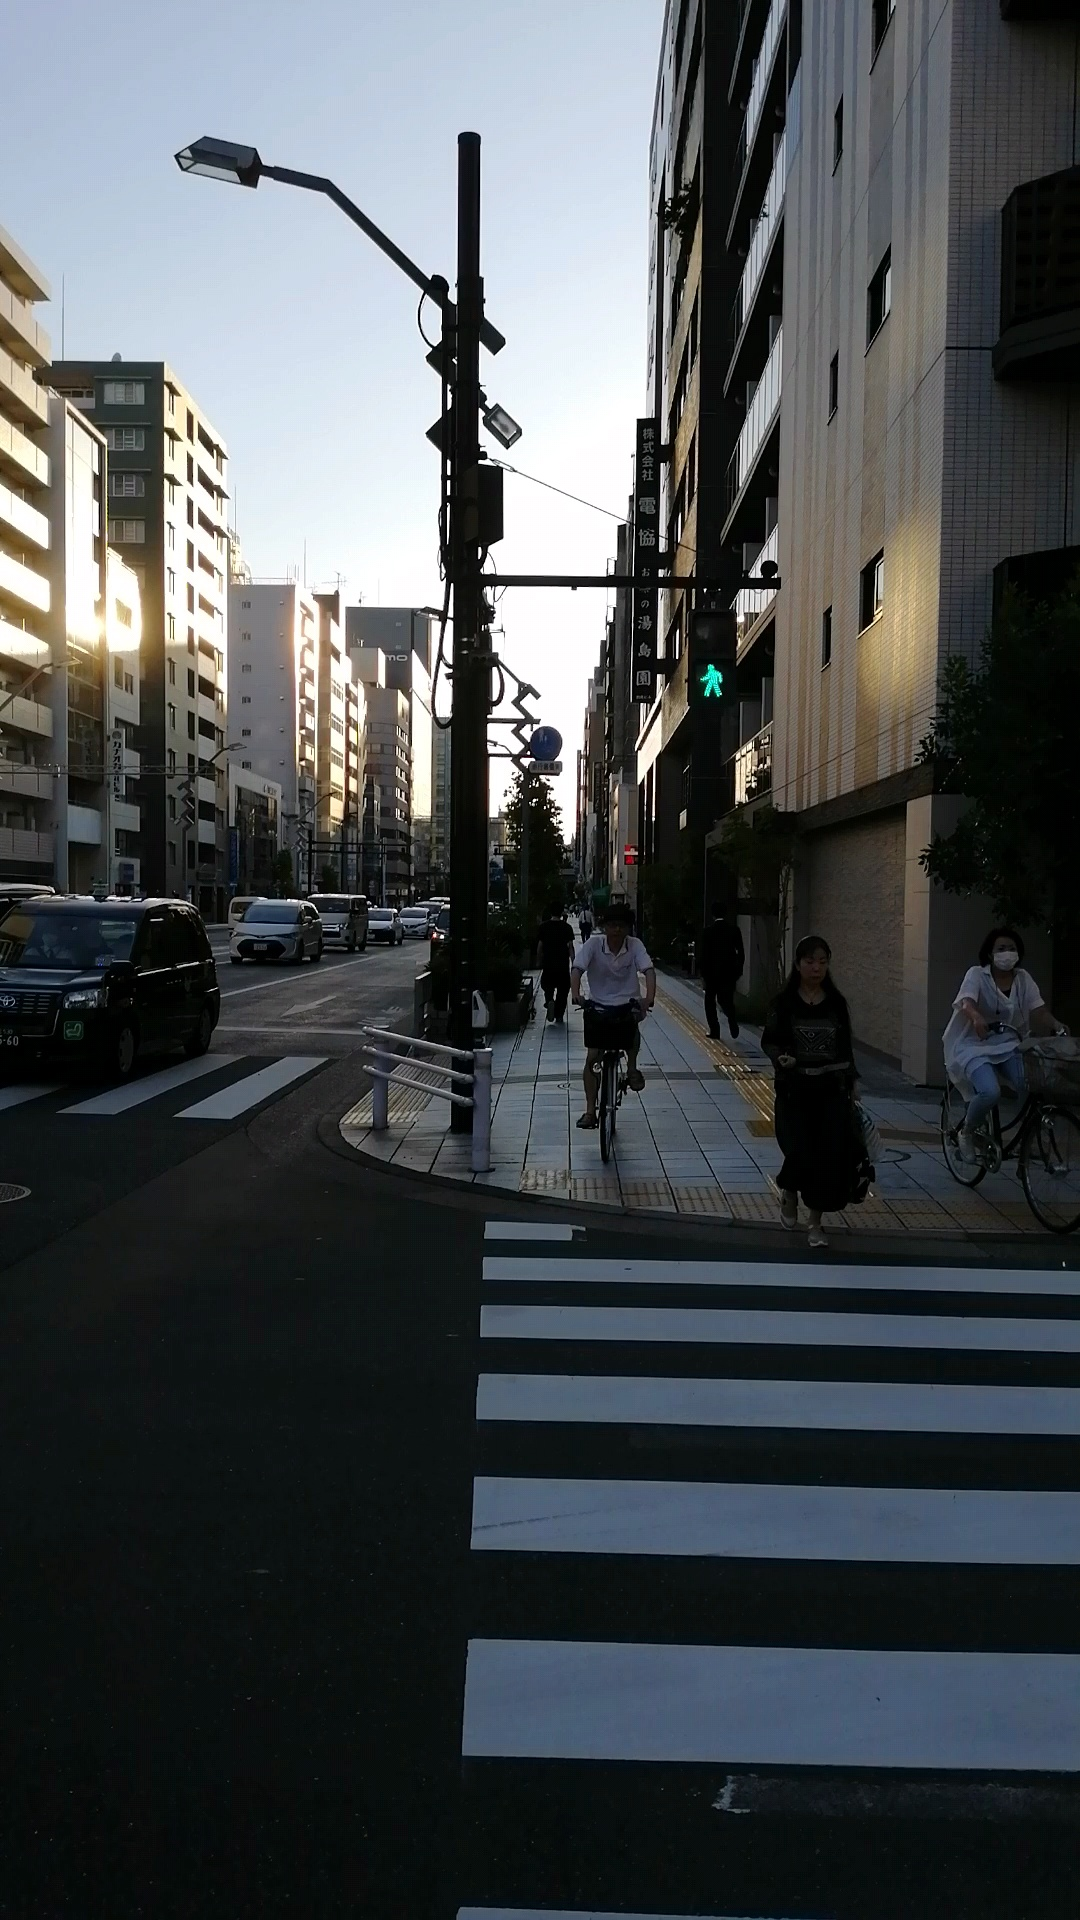green: (686, 609, 735, 709)
